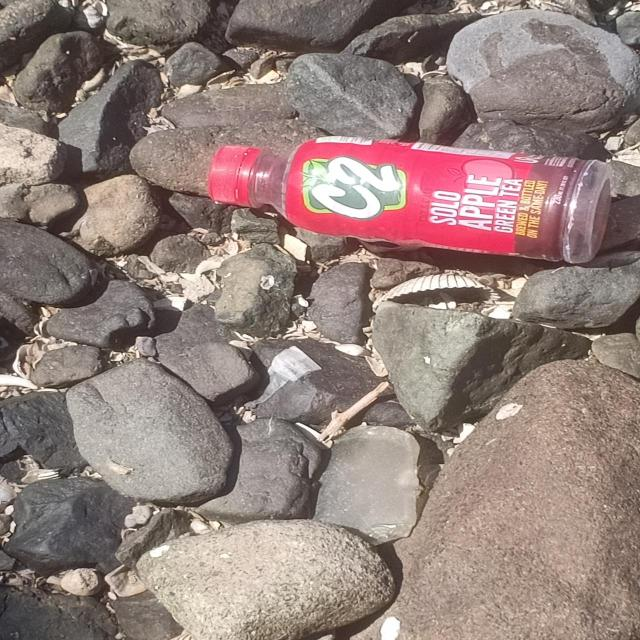plastic_waste: (206, 135, 612, 264)
